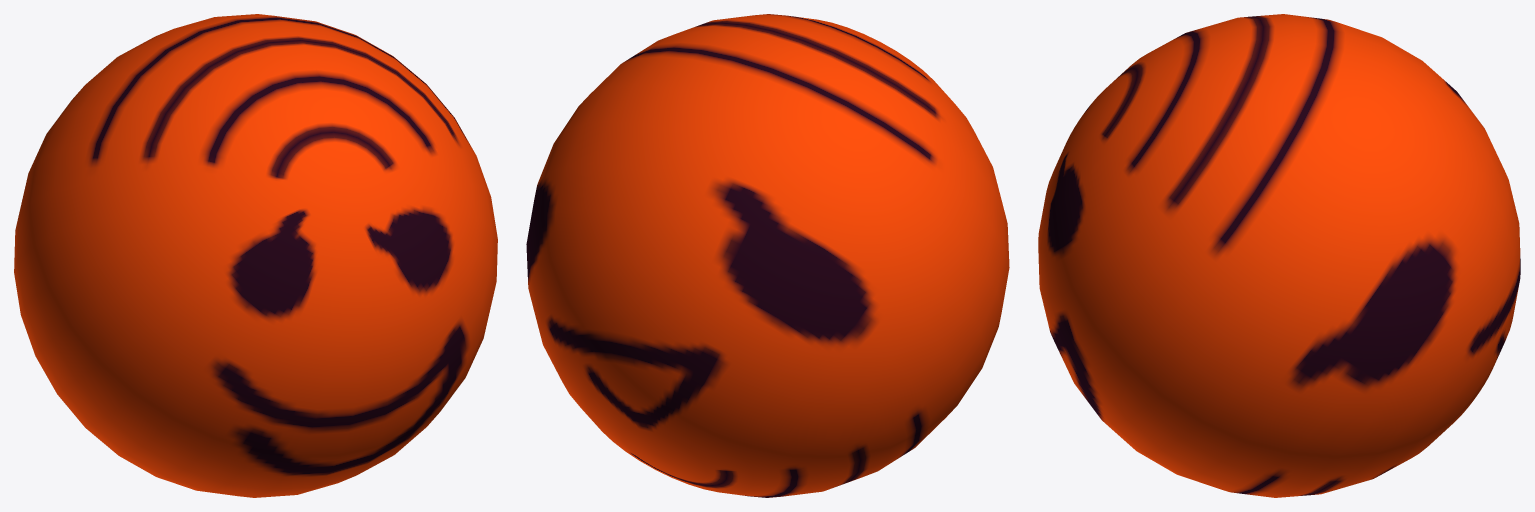
The model's file is sphereE.FBX.
The picture shows the model from 3 angles, left to right: view 1: azimuth 30°, elevation 25°; view 2: azimuth 150°, elevation 25°; view 3: azimuth 270°, elevation 25°; orthographic projection.
Visible parts, largest first — view 1: Sphere001; view 2: Sphere001; view 3: Sphere001.
Part boxes in pixels (x1,y1,x2,y2): Sphere001: (14, 14, 497, 497); Sphere001: (526, 14, 1009, 497); Sphere001: (1038, 14, 1520, 497).
Bounding box in the file's own units: 1.99 × 1.99 × 1.99.
1 material, 1 textured.
